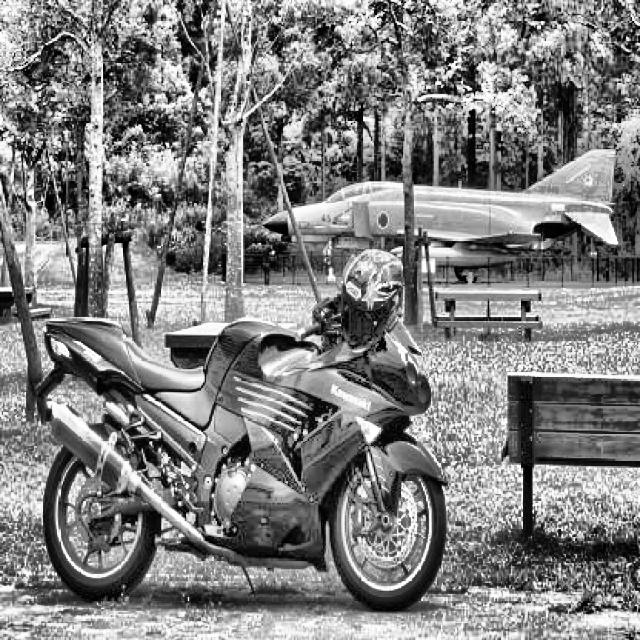F4: (250, 148, 619, 282)
